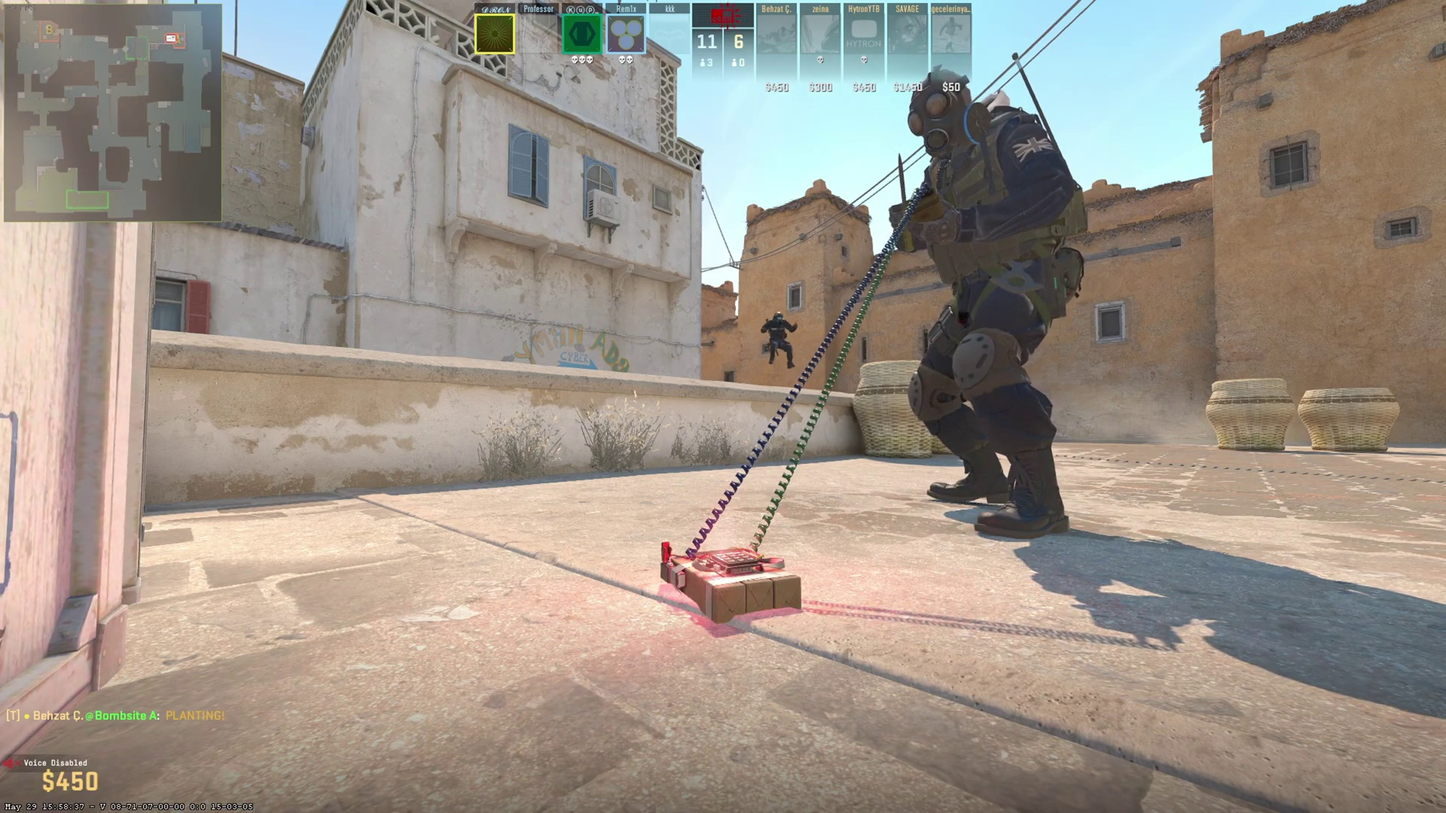CT: (908, 71, 1082, 540), (765, 312, 794, 369)
